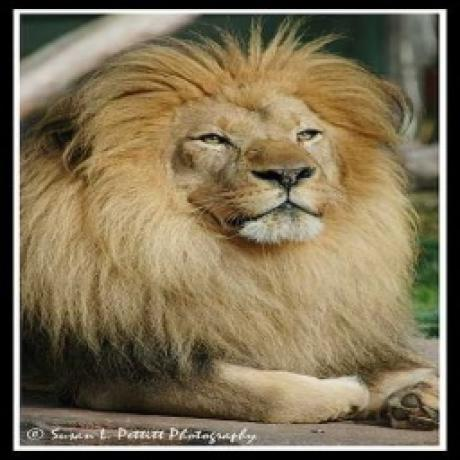Lion: (23, 19, 438, 429)
